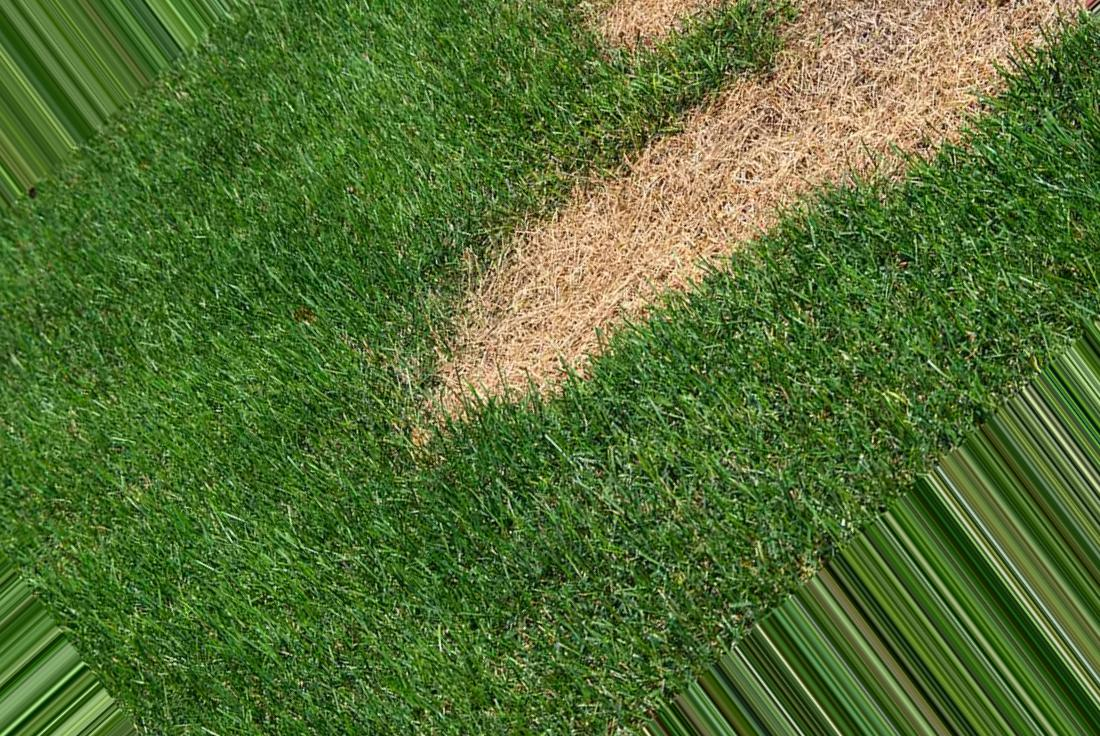patch: (450, 203, 645, 394), (672, 100, 795, 244), (821, 12, 908, 137)
